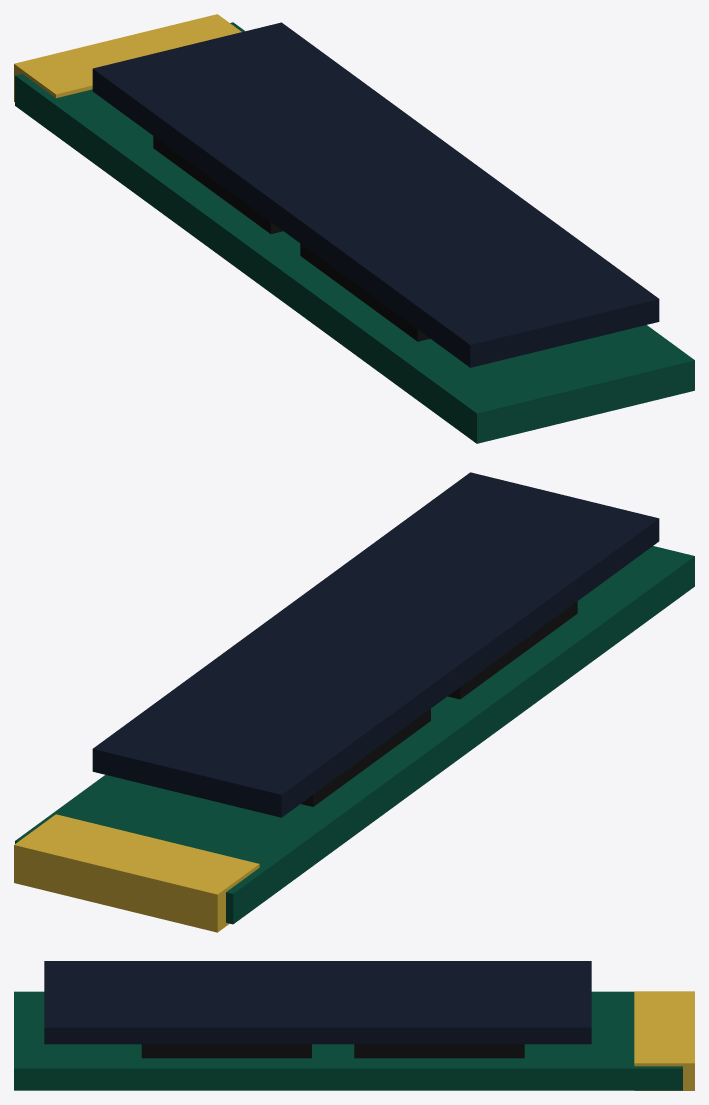
File: ssd.glb
3 views of the same model, one above another, from view 1: azimuth 30°, elevation 25°; view 2: azimuth 150°, elevation 25°; view 3: azimuth 270°, elevation 25° (orthographic). The views are drawn at different scales.
Bounding box in the file's own units: 0.3 × 0.11 × 1.12.
